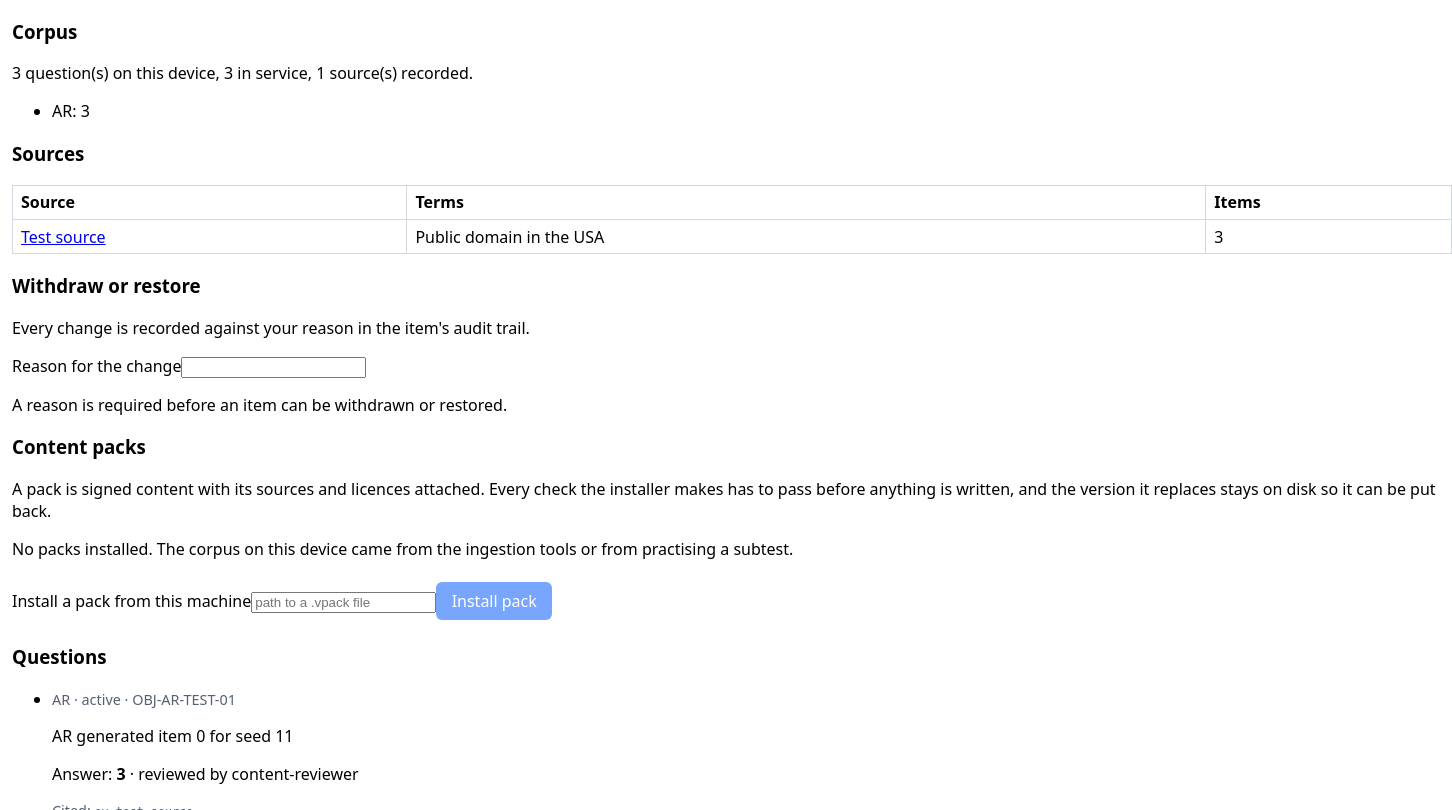
the packs panel › installs a pack and reports what it delivered
Expected: the button with test id "pack-install" is disabled, [436,582,552,620]
Type "C:/packs/core-asvab.vpack" into the field with test id "pack-path-input" at (344, 602), box [251,592,436,613]
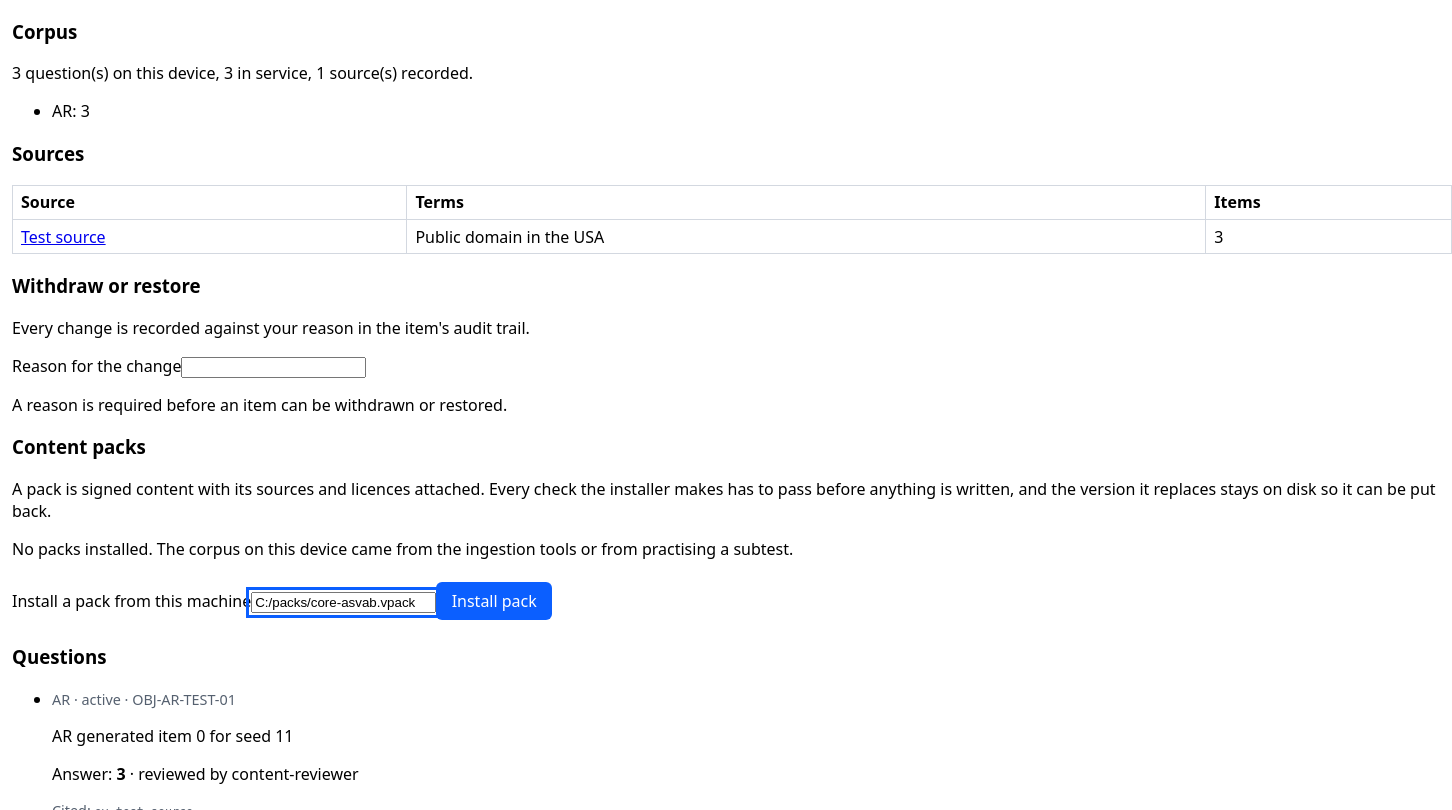
Click the button with test id "pack-install" at (494, 601), box [436,582,552,620]
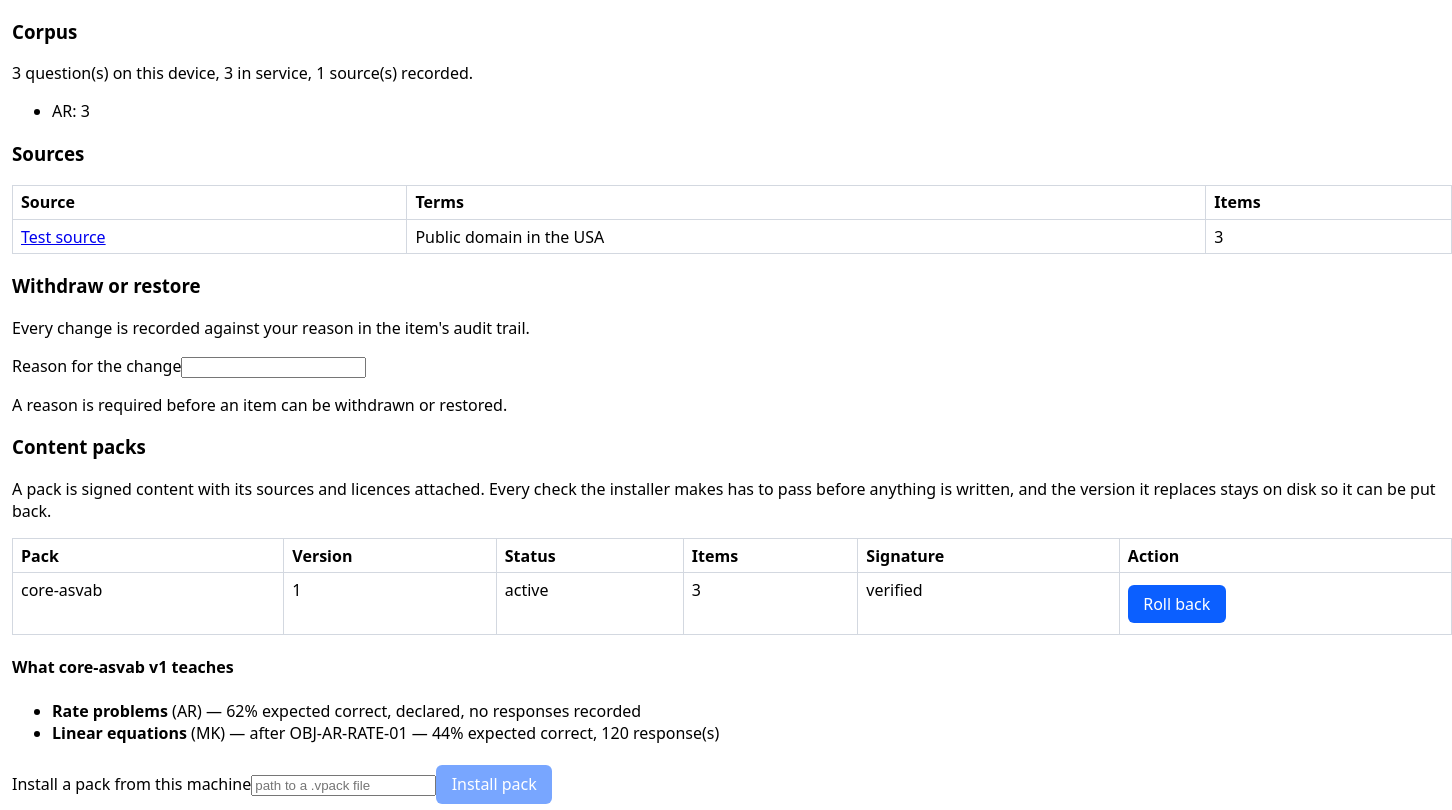
Result: the table with test id "packs-table" is shown at [12,538,1451,635]
Result: the table with test id "packs-table" shows "core-asvab" at [21,579,102,601]
Result: the table with test id "packs-table" shows "verified" at [866,579,923,601]
